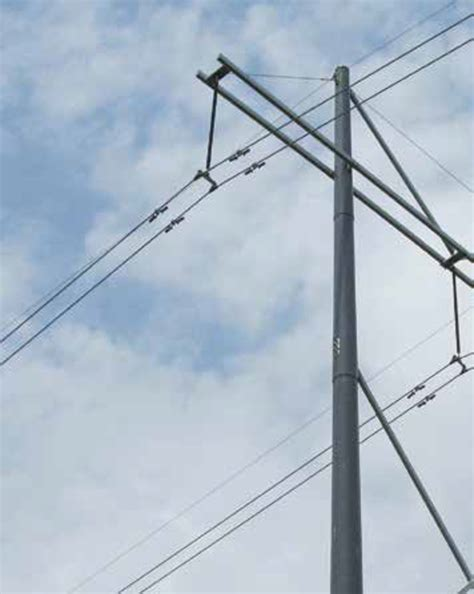pole: (187, 30, 474, 594)
